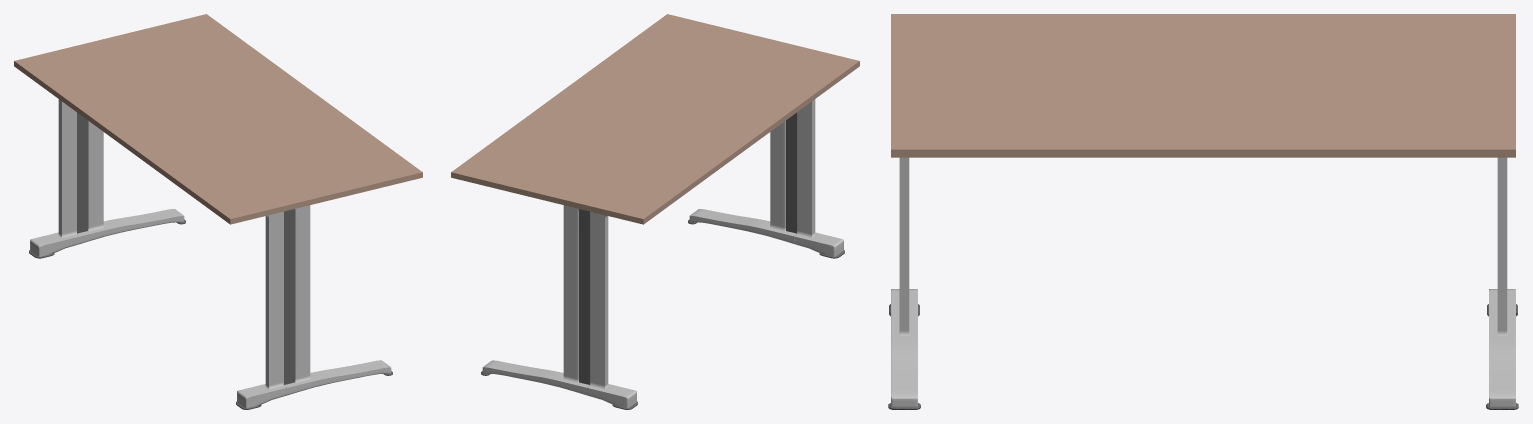
Rendered from stolik_sala_komputerowa.fbx.
The picture shows the model from 3 angles, left to right: view 1: azimuth 30°, elevation 25°; view 2: azimuth 150°, elevation 25°; view 3: azimuth 270°, elevation 25°; orthographic projection. The views are drawn at different scales.
Visible parts, largest first — view 1: Cube, Cube.001, Cube.002; view 2: Cube, Cube.001, Cube.002; view 3: Cube, Cube.001.
Boxes of the visible parts, x1=… form: Cube: x1=14, y1=14, x2=422, y2=224; Cube.001: x1=30, y1=99, x2=391, y2=408; Cube.002: x1=29, y1=112, x2=392, y2=409; Cube: x1=451, y1=14, x2=859, y2=224; Cube.001: x1=482, y1=99, x2=843, y2=408; Cube.002: x1=481, y1=112, x2=844, y2=409; Cube: x1=891, y1=14, x2=1515, y2=157; Cube.001: x1=891, y1=157, x2=1515, y2=406.
Size of the model in its own units: 370 by 357 by 727.
